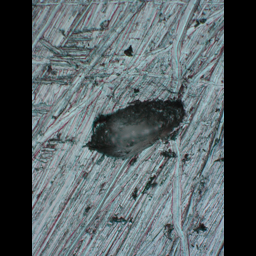d: (83, 94, 190, 161)
